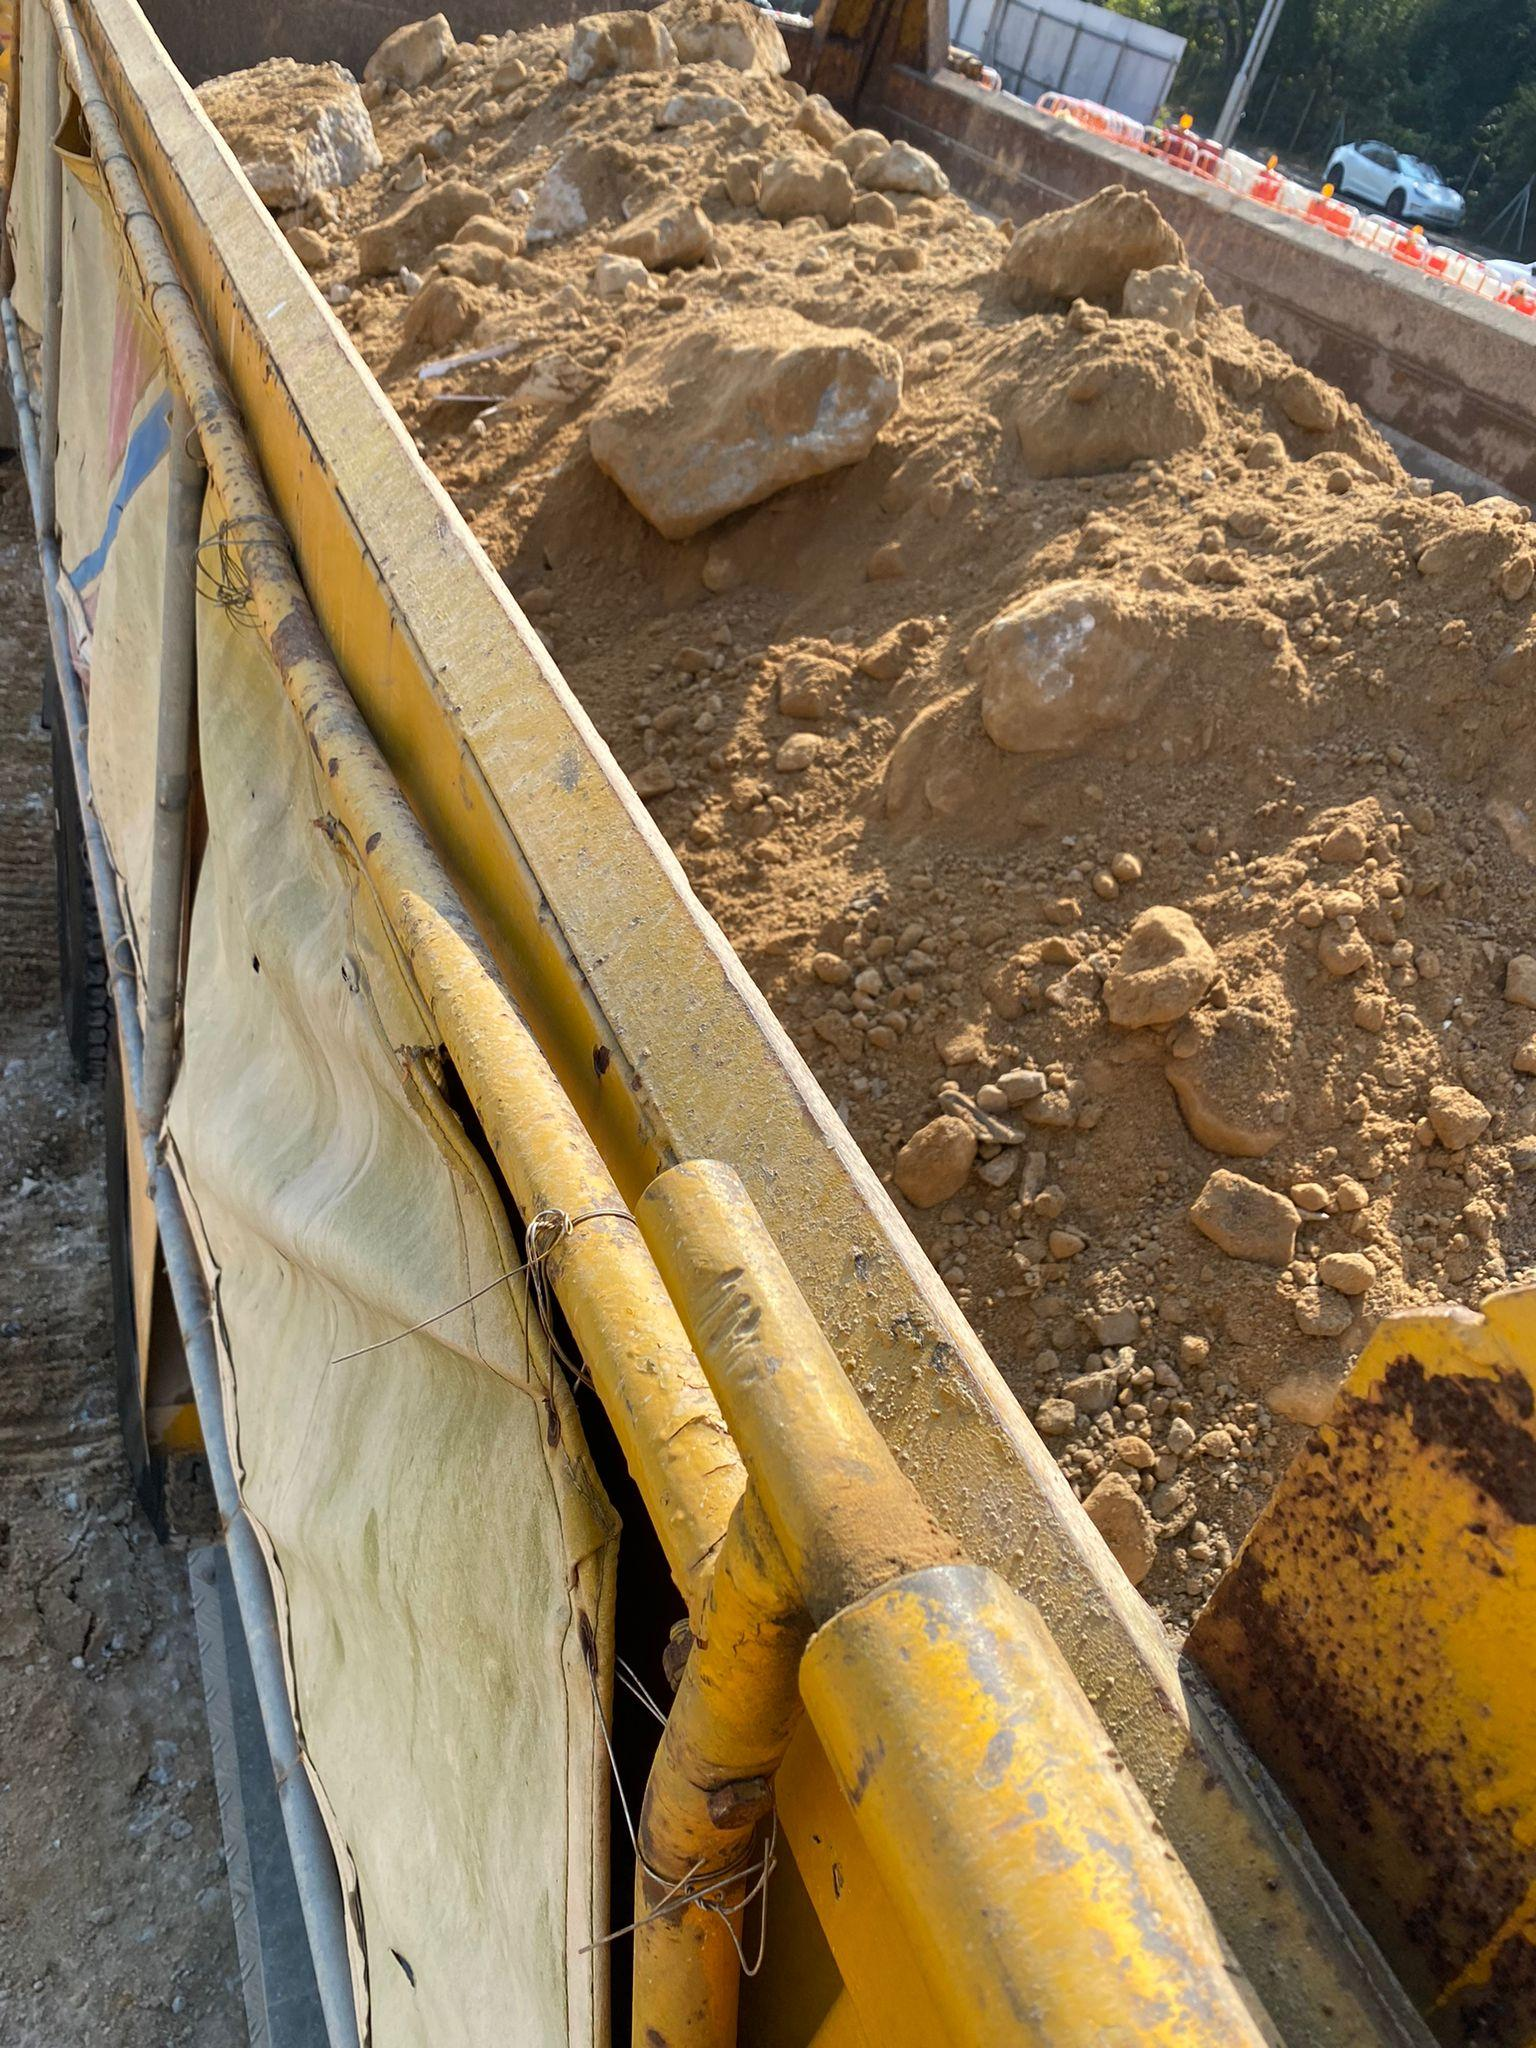stone: (1175, 1287, 1534, 2045), (586, 302, 904, 542), (965, 576, 1183, 755), (999, 313, 1220, 477), (194, 53, 381, 210), (995, 181, 1187, 310), (1100, 901, 1220, 1029), (355, 179, 494, 276), (523, 139, 631, 245), (1186, 1166, 1300, 1264), (652, 0, 791, 77), (1079, 1471, 1155, 1584), (565, 10, 678, 84), (603, 195, 712, 269), (891, 1113, 976, 1206), (755, 150, 854, 226), (361, 11, 457, 89), (1120, 261, 1204, 332), (854, 137, 949, 197), (776, 651, 850, 719), (1425, 1080, 1489, 1148), (1317, 1250, 1375, 1295)
